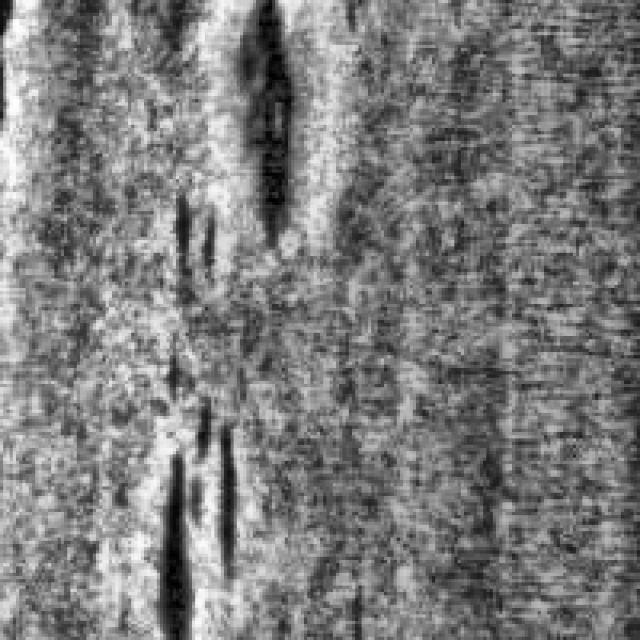Patches: (141, 175, 240, 630), (227, 0, 304, 246)
